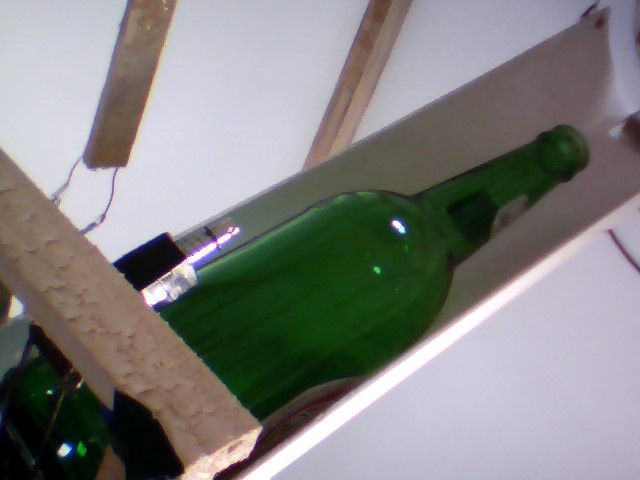vidrio: (214, 116, 599, 442)
